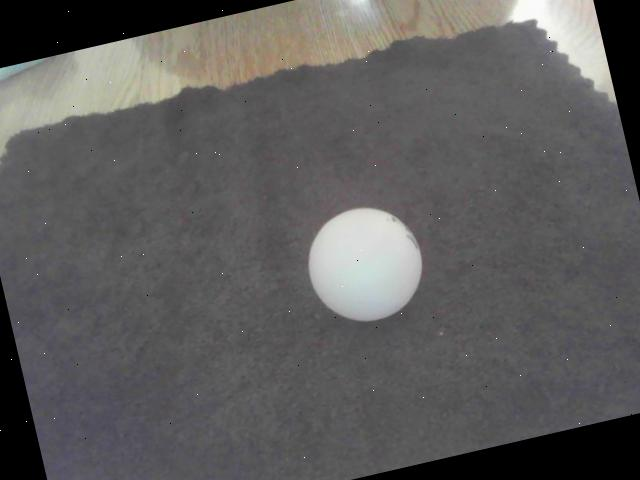ball: (298, 199, 432, 332)
